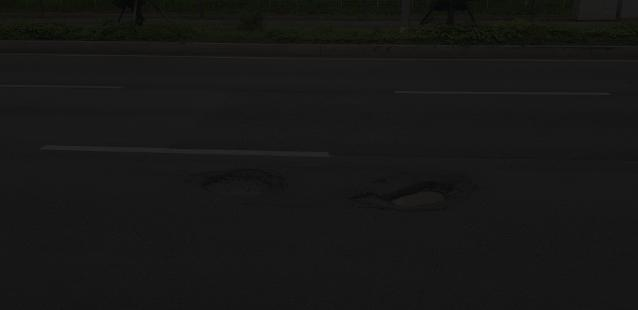pothole: (376, 162, 458, 226), (189, 159, 290, 207)
